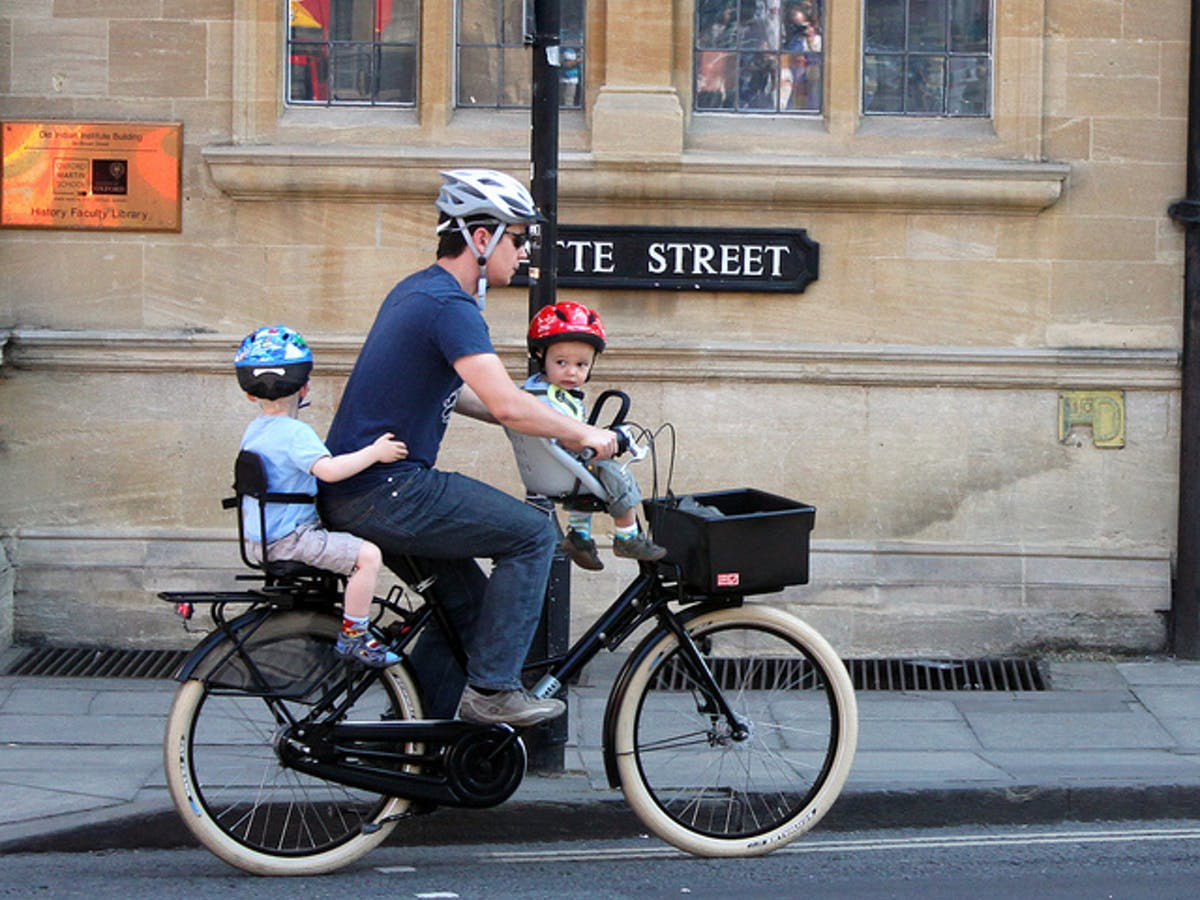helmet: (434, 169, 548, 286), (527, 301, 607, 389)
